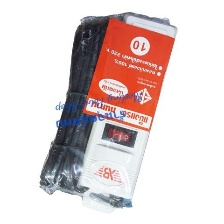three_eye_plug: (71, 4, 181, 205)
